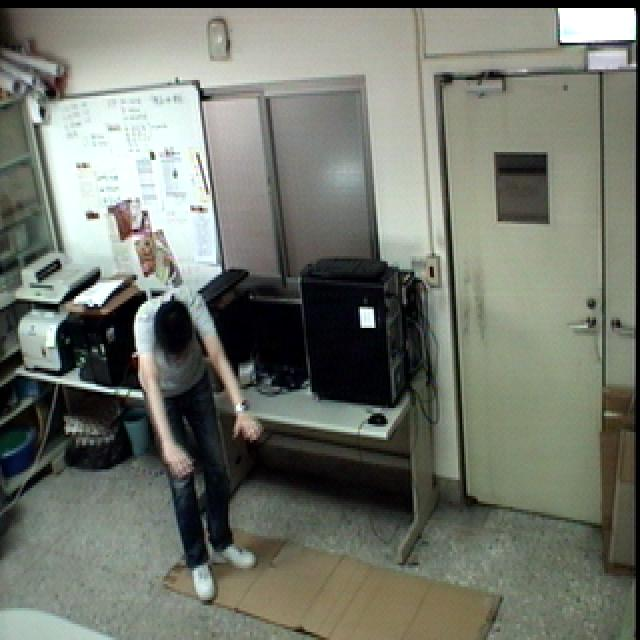bend: (122, 284, 270, 607)
